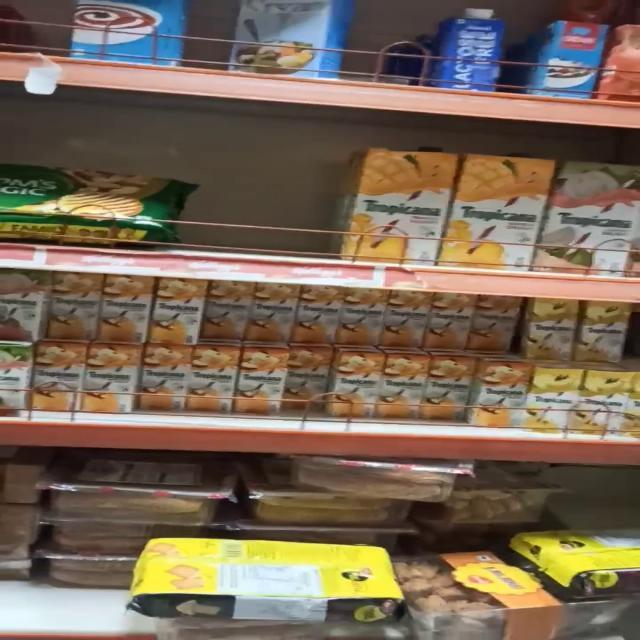Tropicana: (331, 141, 442, 262), (450, 144, 550, 273), (545, 152, 640, 276), (37, 272, 100, 340), (94, 274, 150, 344), (27, 347, 85, 414), (182, 344, 234, 414), (518, 294, 576, 356), (232, 351, 282, 421), (374, 348, 421, 422), (148, 276, 198, 345), (476, 361, 528, 427), (328, 351, 376, 418), (336, 284, 386, 348), (580, 368, 630, 432), (197, 276, 248, 338), (582, 298, 627, 368), (286, 282, 336, 344), (377, 288, 427, 350), (421, 354, 466, 421), (426, 290, 473, 353), (84, 347, 128, 414), (244, 280, 292, 341), (470, 292, 518, 353), (142, 347, 186, 413), (282, 348, 324, 413), (533, 368, 576, 429)
